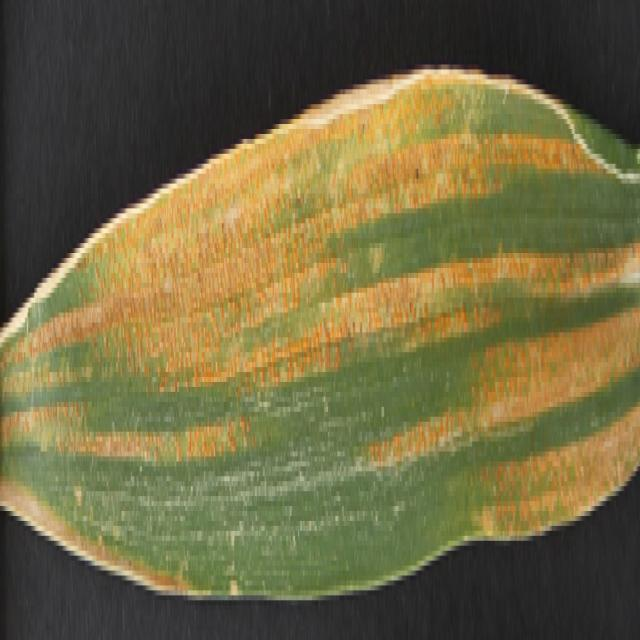leaf rust: (1, 90, 638, 606)
